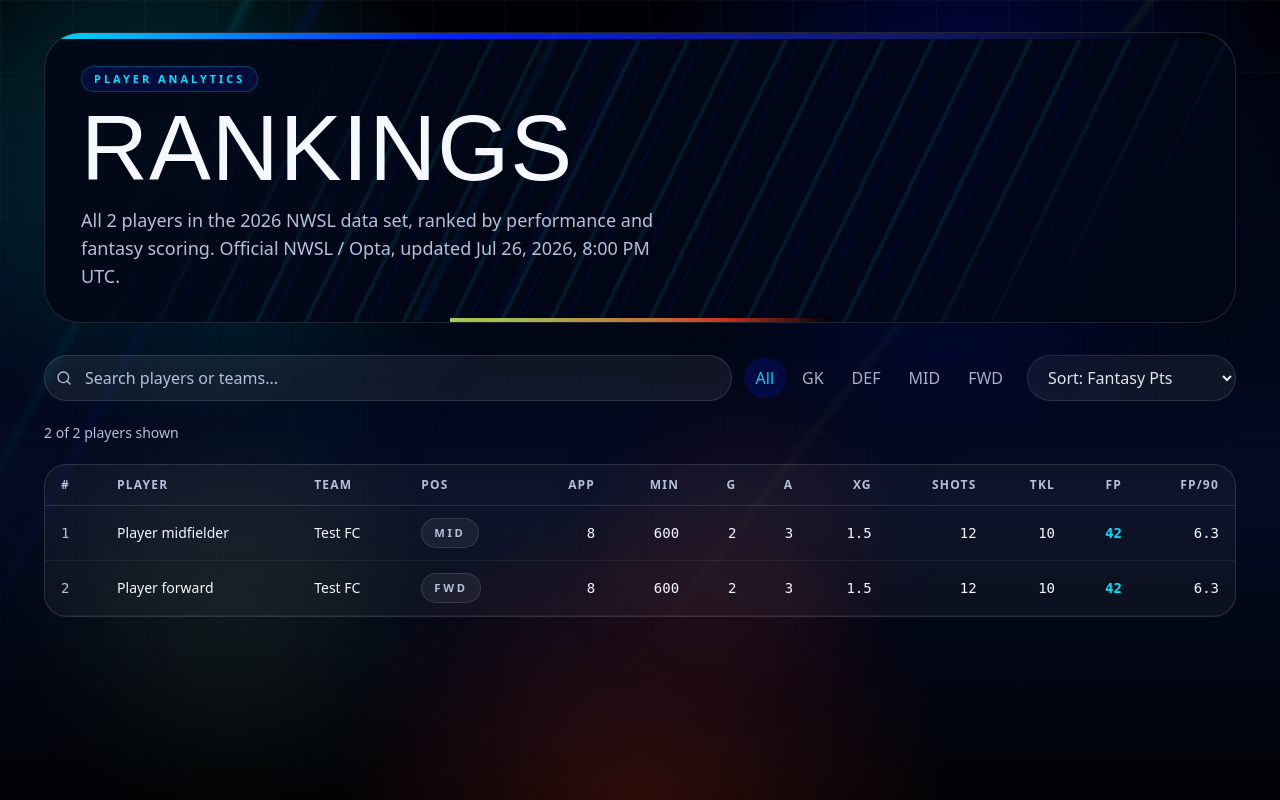
Test: PlayerRankingsClient match-log coverage › announces filtered counts and offers a working reset for no results
Expected: the message reads "2 of 2 players shown", [44,423,179,442]
Click the button "FWD": (986, 378) [956,358,1015,398]
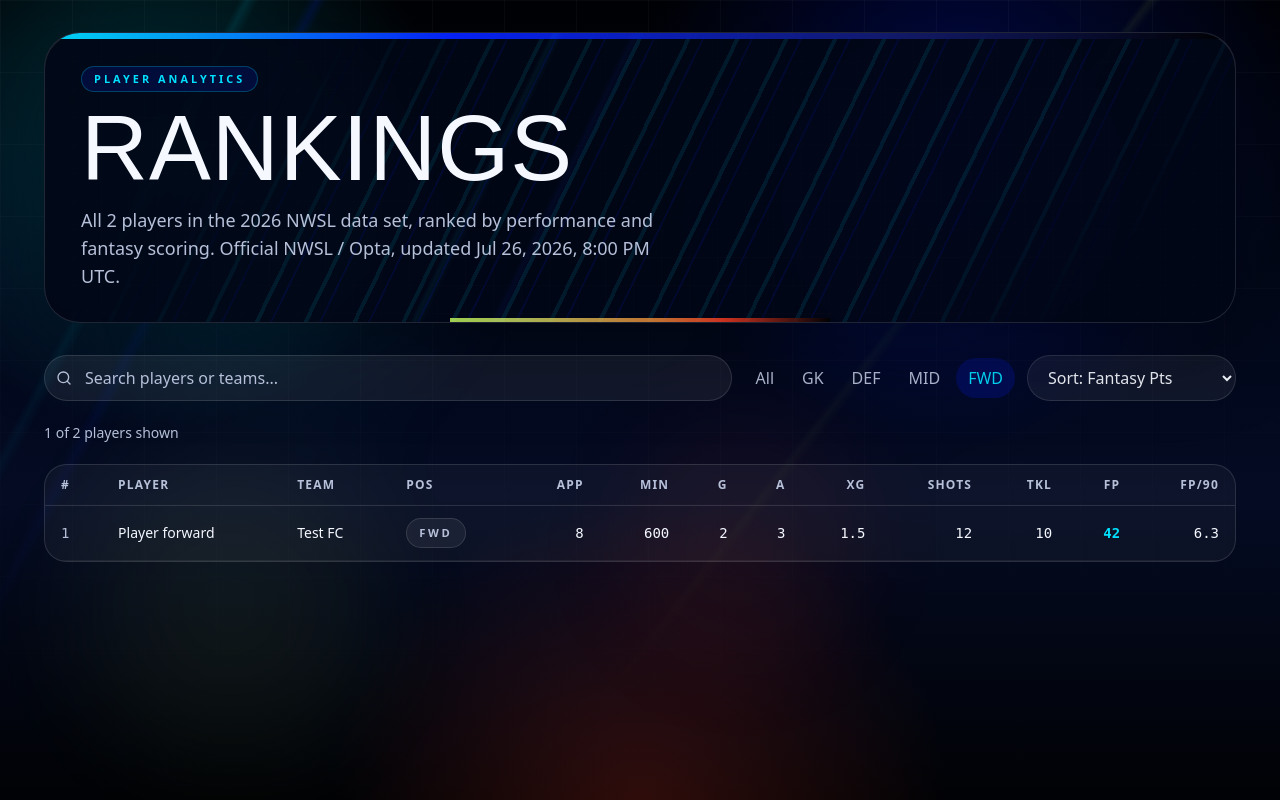
Expected: the message reads "1 of 2 players shown", [44,423,179,442]
In the field labelled "Search players or teams": (388, 378) [44,355,732,401], type "no matching player"
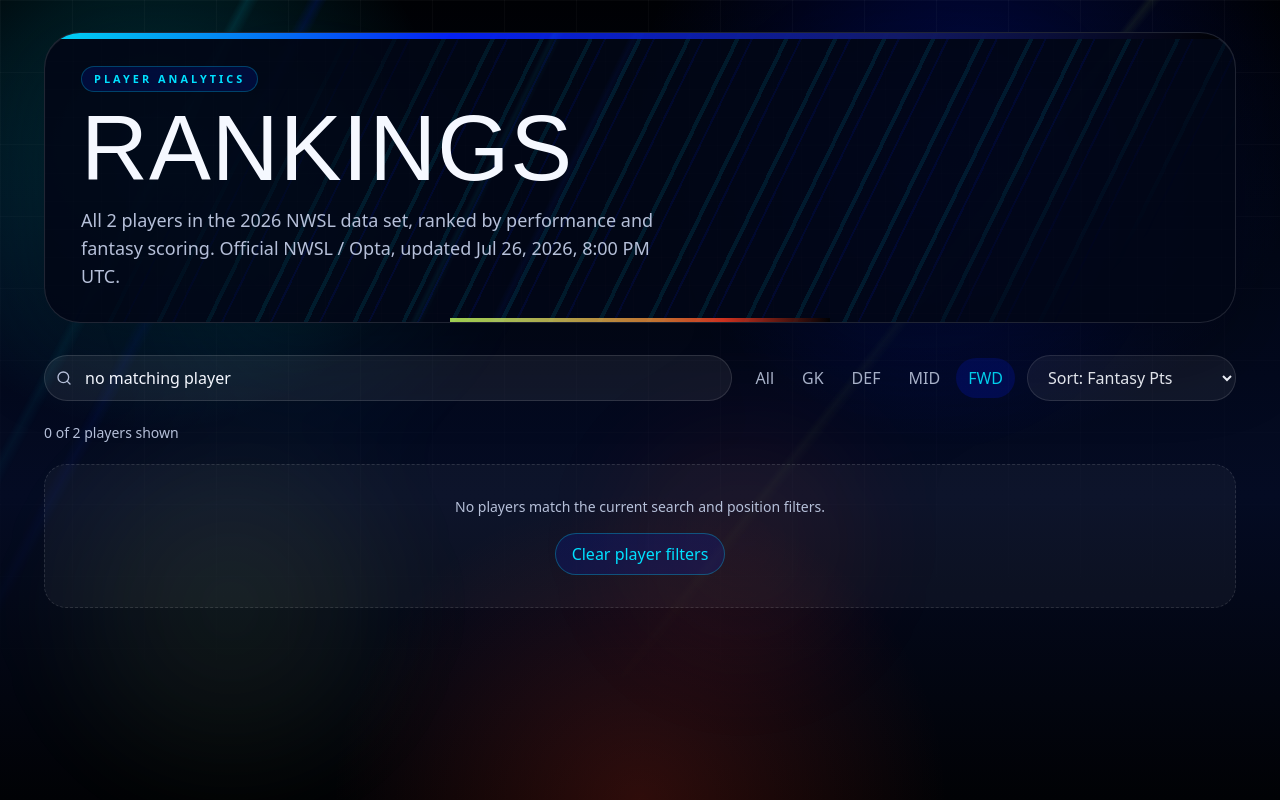
Expected: the message reads "0 of 2 players shown", [44,423,179,442]
Expected: the text "No players match the current search and position filters." is shown, [455,497,825,516]
Click the button "Clear player filters": (640, 554) [555,533,725,575]
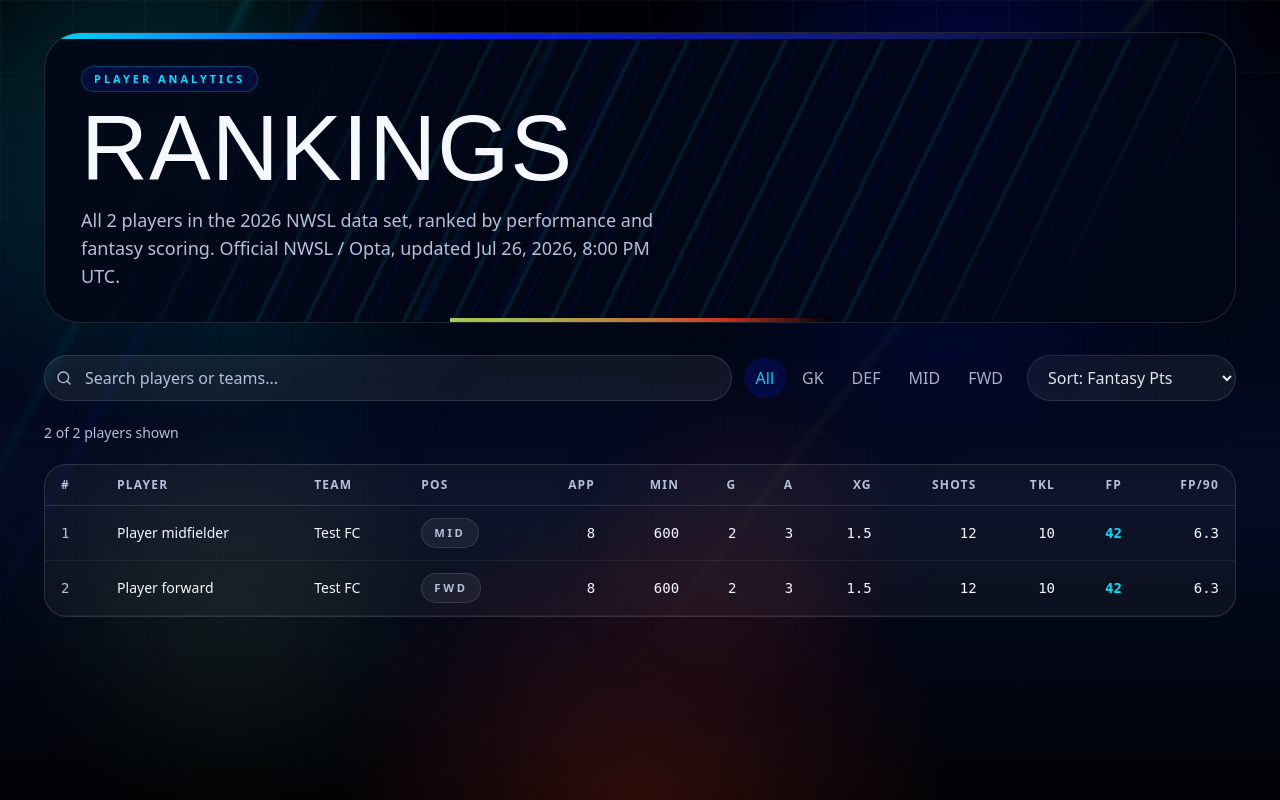
Expected: the message reads "2 of 2 players shown", [44,423,179,442]
Expected: the field labelled "Search players or teams" is empty, [44,355,732,401]
